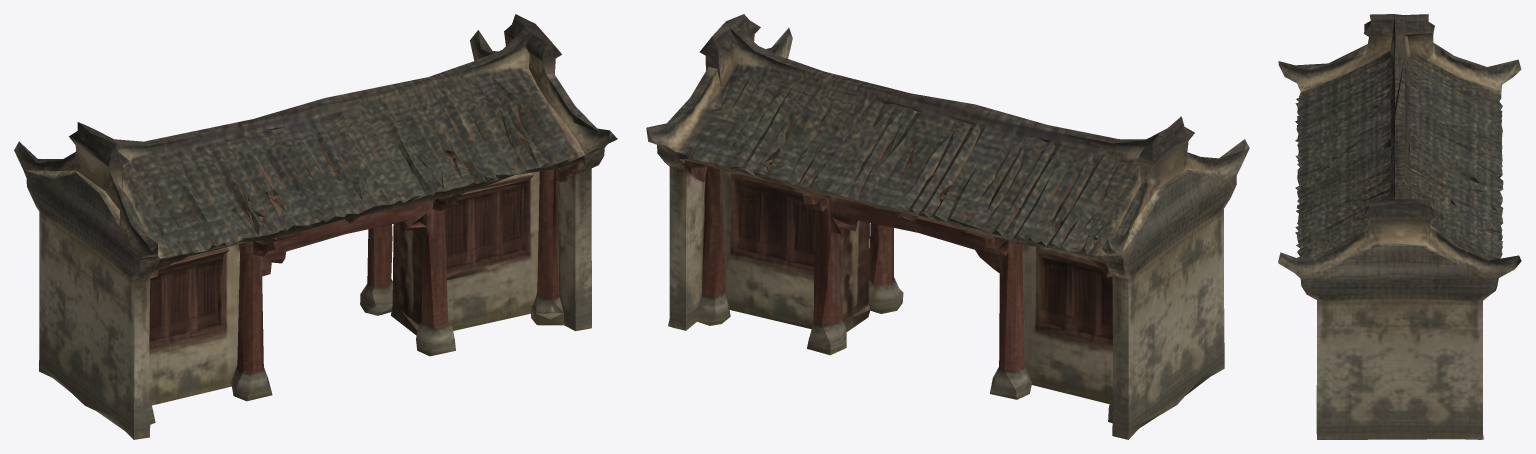
Rendered from gate.glb.
3 renders of one model, left to right at view 1: azimuth 30°, elevation 25°; view 2: azimuth 150°, elevation 25°; view 3: azimuth 270°, elevation 25°, orthographic. The views are drawn at different scales.
Visible parts, largest first — view 1: world; view 2: world; view 3: world.
Boxes of the visible parts, bbox=[...] form: world: bbox=[14, 14, 617, 439]; world: bbox=[646, 14, 1249, 439]; world: bbox=[1278, 14, 1521, 439].
Bounding box in the file's own units: 1 × 0.5615 × 0.5202.
1 material, 1 textured.
